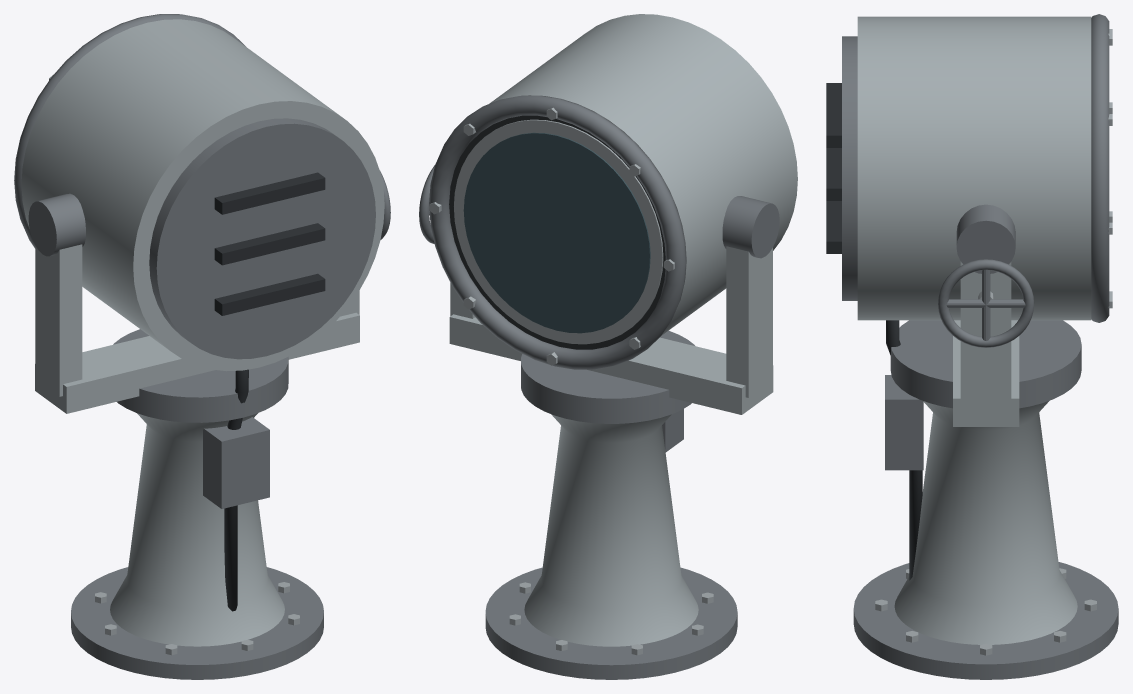
3 views of the same model, side by side, from view 1: azimuth 30°, elevation 25°; view 2: azimuth 150°, elevation 25°; view 3: azimuth 270°, elevation 25° (orthographic). The views are drawn at different scales.
Visible parts, largest first — view 1: component.root.mesh; view 2: component.root.mesh; view 3: component.root.mesh.
Boxes of the visible parts, x1,y1,x2,y2 form: component.root.mesh: (14, 14, 390, 679); component.root.mesh: (419, 14, 797, 679); component.root.mesh: (826, 14, 1118, 679).
Bounding box in the file's own units: 1.01 × 1.69 × 0.75.
